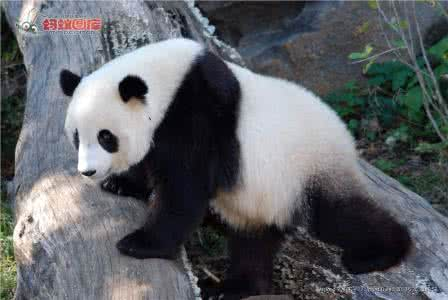panda: (57, 37, 410, 300)
